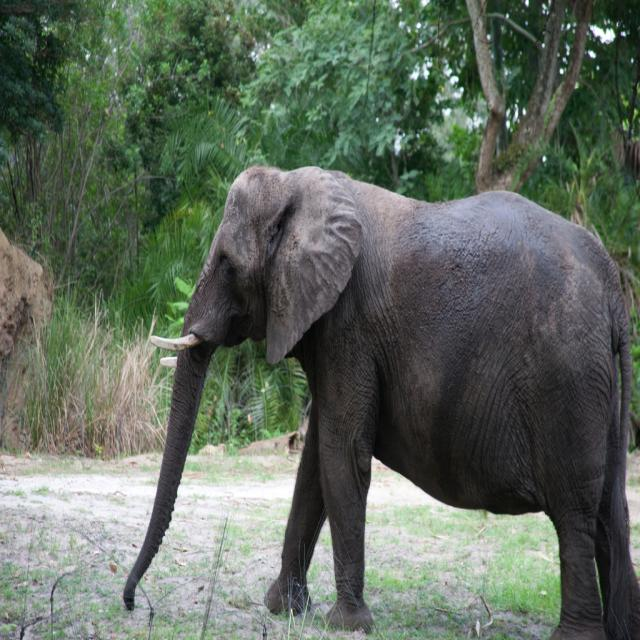elephant: (128, 158, 616, 636)
